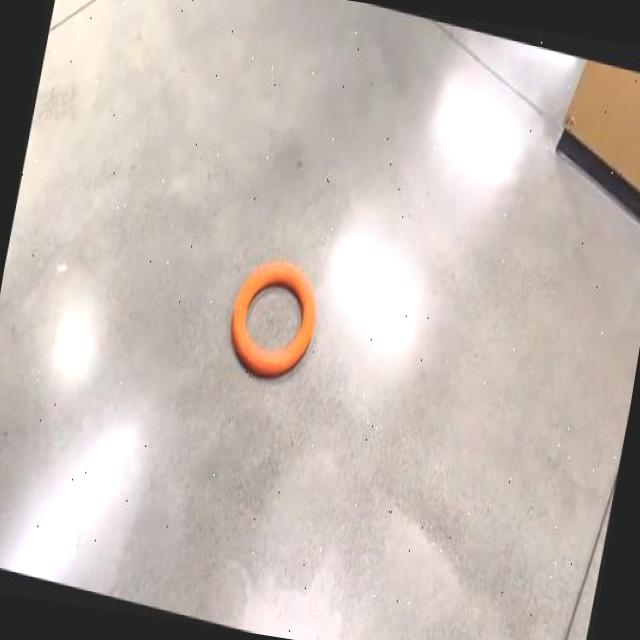note: (232, 260, 315, 375)
